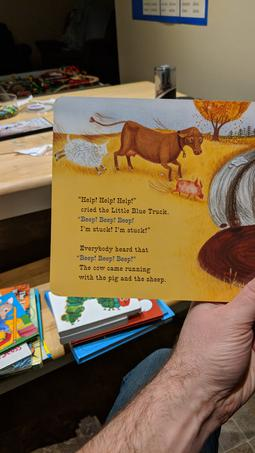text block: (69, 240, 177, 286), (70, 190, 171, 235)
